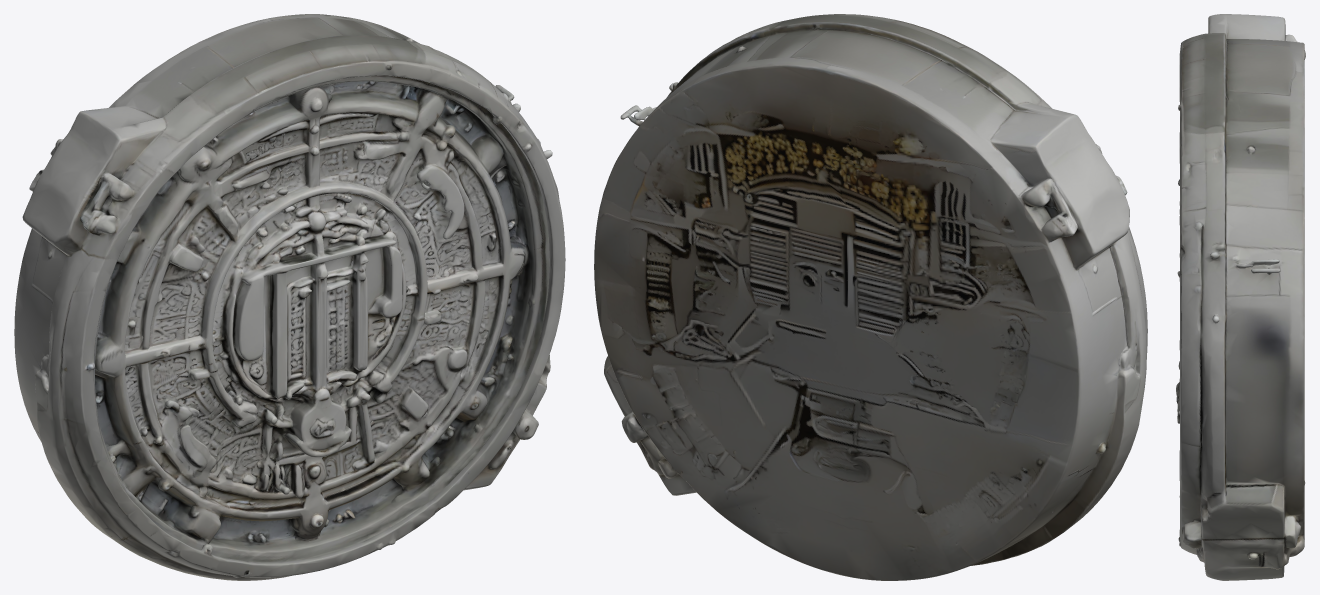
The model's file is prop-manhole.glb.
3 renders of one model, left to right at view 1: azimuth 30°, elevation 25°; view 2: azimuth 150°, elevation 25°; view 3: azimuth 270°, elevation 25°, orthographic. The views are drawn at different scales.
Parts seen in each view (by area): view 1: tripo_node_b259580a-c27e-4bad-8c22-2e9f742590fd; view 2: tripo_node_b259580a-c27e-4bad-8c22-2e9f742590fd; view 3: tripo_node_b259580a-c27e-4bad-8c22-2e9f742590fd.
Boxes of the visible parts, box(x1,y1,x2,y2) form: tripo_node_b259580a-c27e-4bad-8c22-2e9f742590fd: box(14, 14, 565, 580); tripo_node_b259580a-c27e-4bad-8c22-2e9f742590fd: box(594, 14, 1147, 580); tripo_node_b259580a-c27e-4bad-8c22-2e9f742590fd: box(1176, 14, 1305, 580).
Size of the model in its own units: 0.0509 by 0.05 by 0.0123.
Materials: 1 (1 with a texture image).
